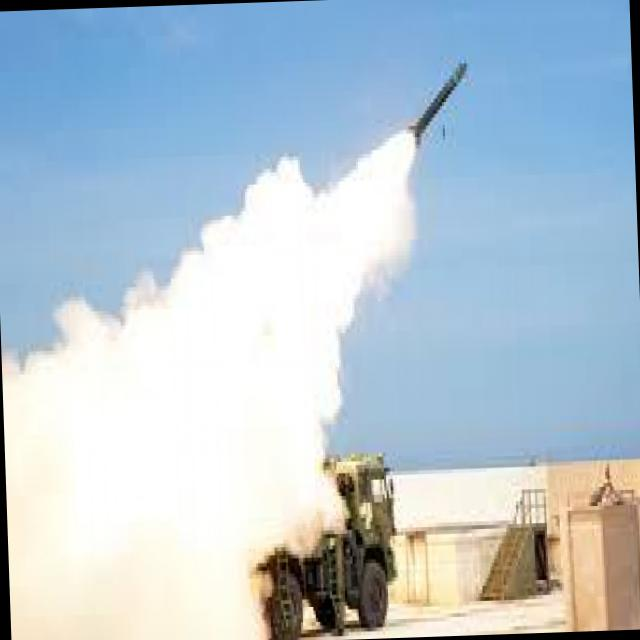rocket: (339, 55, 479, 253)
